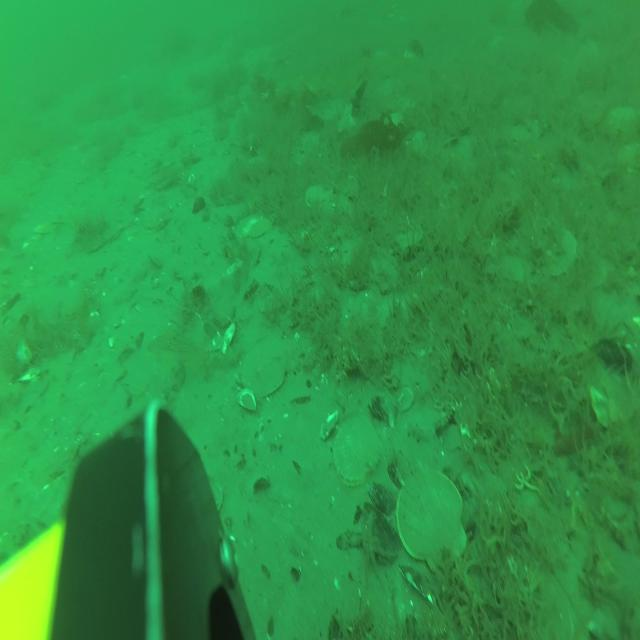scallop: (396, 473, 468, 574), (334, 412, 382, 487), (242, 334, 287, 398), (539, 230, 578, 278), (141, 201, 174, 234), (305, 183, 332, 208), (250, 215, 272, 238), (235, 214, 256, 236)
